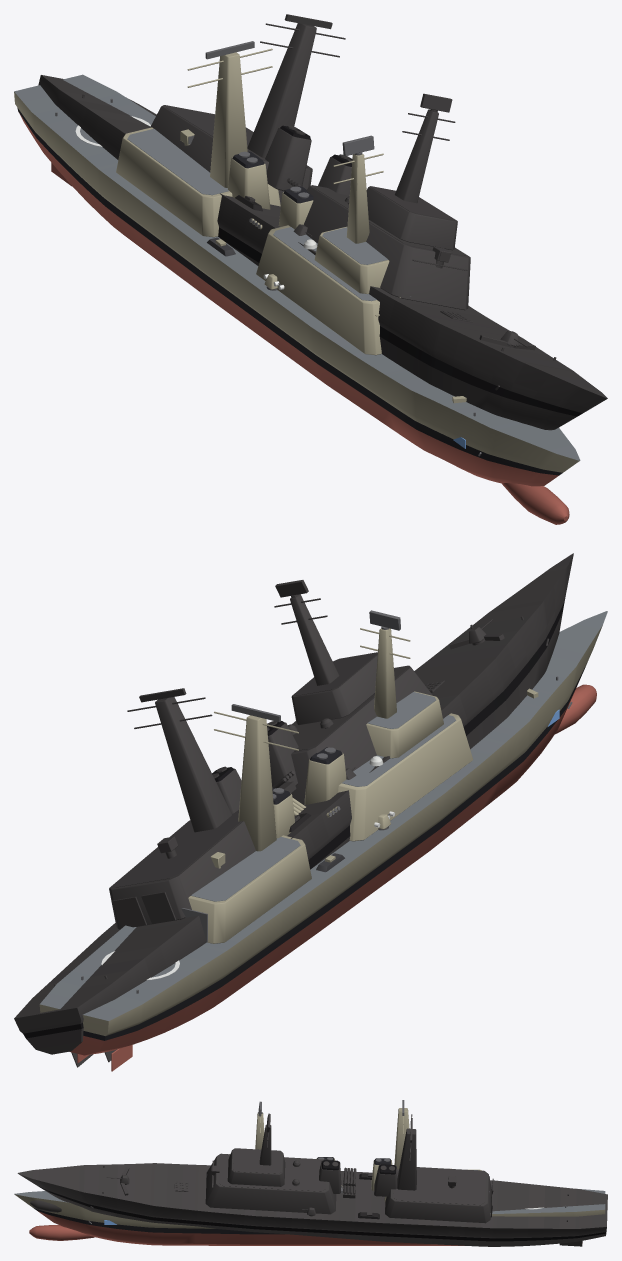
The model's file is asFrigate__f123_brandenburg_class.glb.
The picture shows the model from 3 angles, top to bottom: view 1: azimuth 30°, elevation 25°; view 2: azimuth 150°, elevation 25°; view 3: azimuth 270°, elevation 25°; orthographic projection. The views are drawn at different scales.
Visible parts, largest first — view 1: Hull_Mesh, Wreck; view 2: Hull_Mesh, Wreck; view 3: Wreck, Hull_Mesh.
Boxes of the visible parts, x1,y1,x2,y2 form: Hull_Mesh: (14,41,580,524); Wreck: (38,14,607,430); Hull_Mesh: (39,611,607,1071); Wreck: (14,553,573,1067); Wreck: (17,1113,607,1246); Hull_Mesh: (14,1100,605,1245).
Size of what is drawn, in the model's own units: 27.53 by 40.07 by 145.
